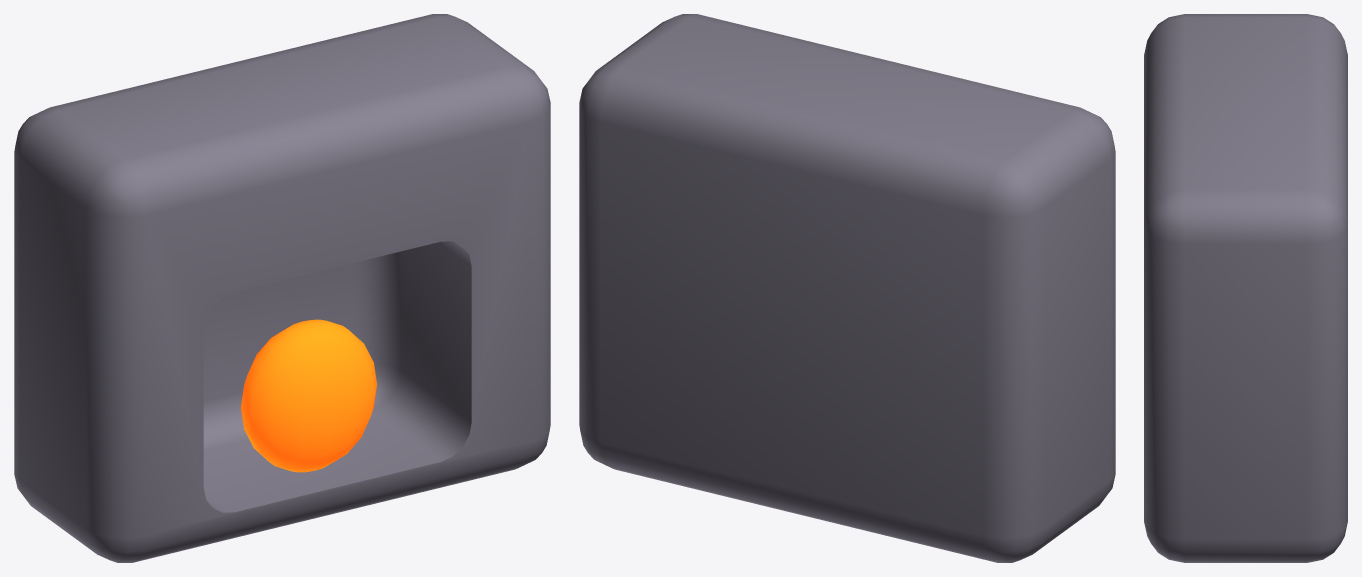
Rendered from fireplace.glb.
The picture shows the model from 3 angles, left to right: view 1: azimuth 30°, elevation 25°; view 2: azimuth 150°, elevation 25°; view 3: azimuth 270°, elevation 25°; orthographic projection. The views are drawn at different scales.
Parts seen in each view (by area): view 1: Fireplace; view 2: Fireplace; view 3: Fireplace.
Boxes of the visible parts, x1,y1,x2,y2 form: Fireplace: [14, 14, 550, 562]; Fireplace: [579, 14, 1115, 562]; Fireplace: [1144, 14, 1347, 562].
Size of the model in its own units: 1.2 by 1 by 0.5.
